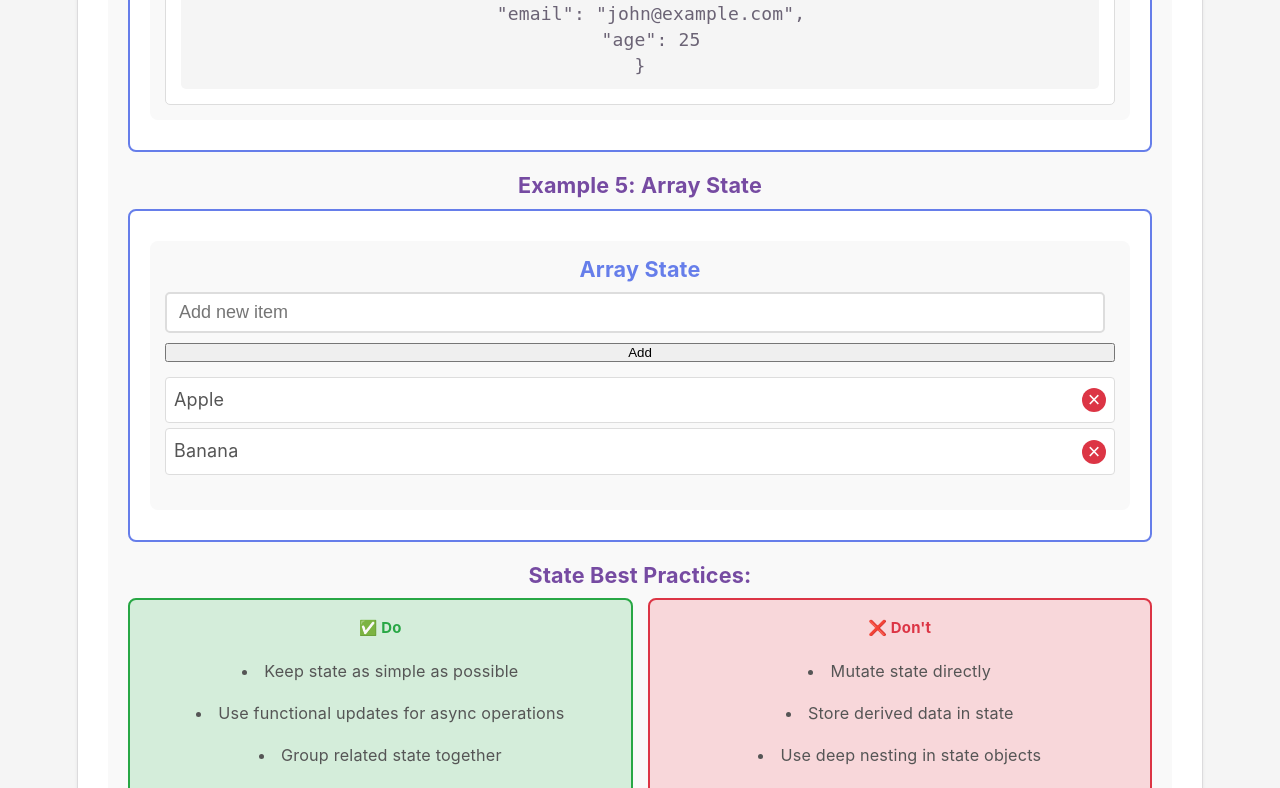
Test: StateManagementDemo › removes items from array state
(page scrolled)
Expected: the list item "Apple" is shown, [174,389,224,410]
Expected: the list item "Banana" is shown, [174,440,238,462]
# Click first remove button (should remove Apple)
Click the button "×" in the row of "Apple". click: (1094, 400)
box: [1082,388,1106,412]
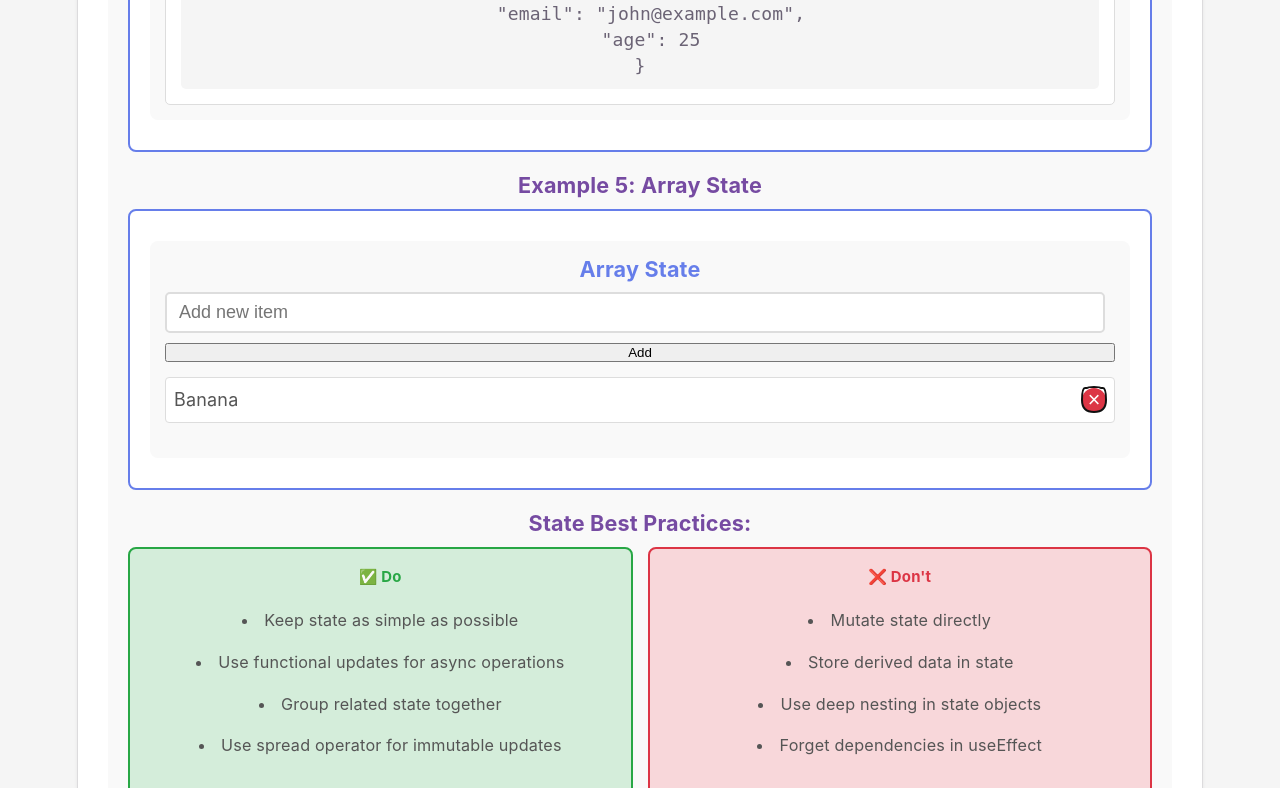
Expected: the list item "Apple" is gone
Expected: the list item "Banana" is shown, [174,389,238,410]
